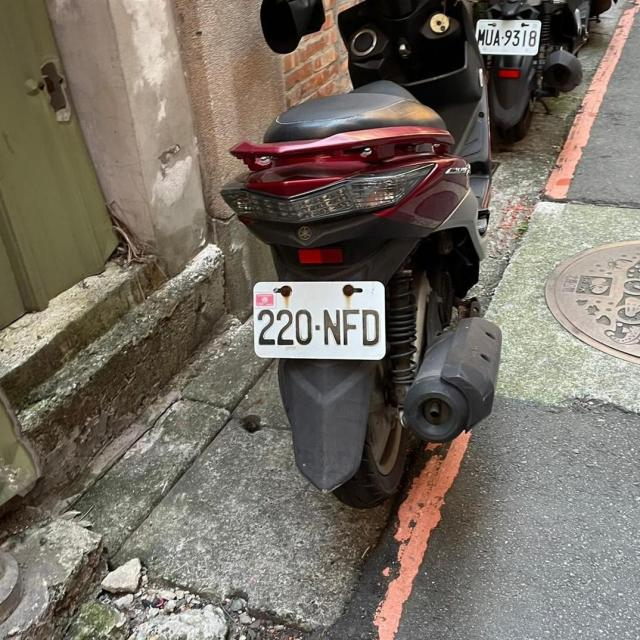W: (251, 279, 387, 360), (464, 14, 544, 56)
